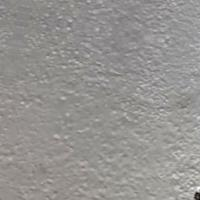crack: (178, 160, 199, 199)
